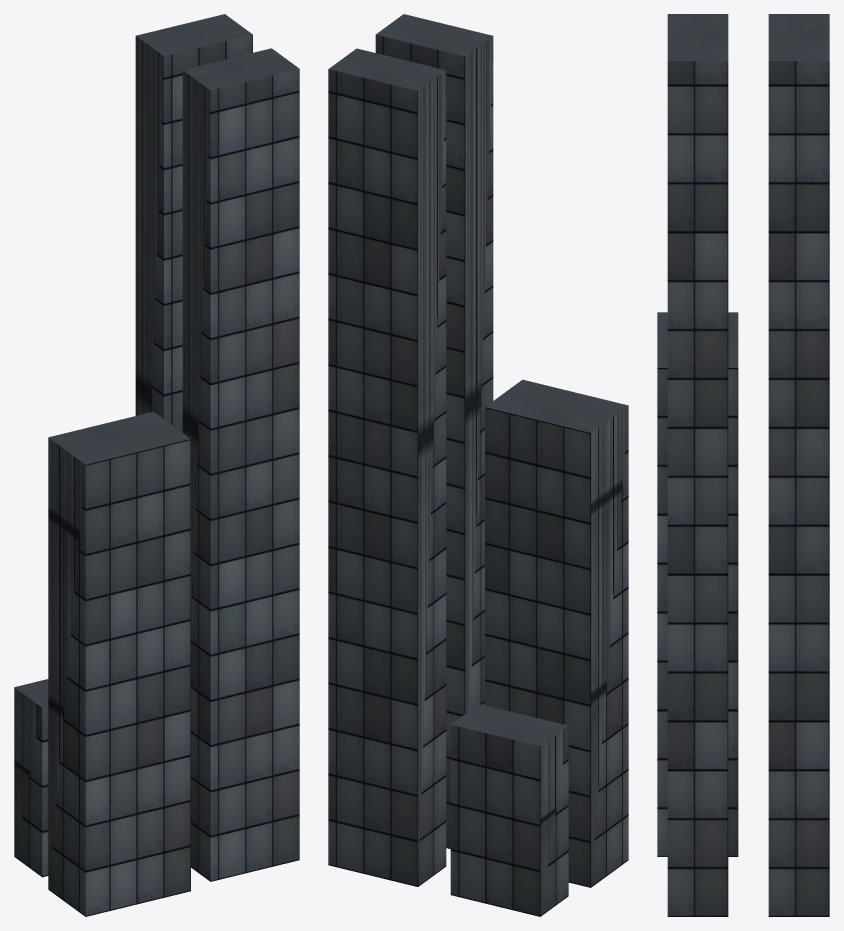
Rendered from block_21.obj.
3 renders of one model, left to right at view 1: azimuth 30°, elevation 25°; view 2: azimuth 150°, elevation 25°; view 3: azimuth 270°, elevation 25°, orthographic. The views are drawn at different scales.
Parts seen in each view (by area): view 1: b3, b1, b2, b0; view 2: b2, b1, b3, b0; view 3: b2, b3, b1.
Part boxes in pixels (<box>): b3: <box>182,48,299,881</box>; b1: <box>48,411,190,916</box>; b2: <box>135,14,252,432</box>; b0: <box>14,679,48,877</box>; b2: <box>328,48,446,886</box>; b1: <box>485,379,628,887</box>; b3: <box>375,14,493,848</box>; b0: <box>450,704,568,916</box>; b2: <box>768,14,829,916</box>; b3: <box>667,14,728,916</box>; b1: <box>657,312,738,856</box>.
Bounding box in the file's own units: 4.05 × 14 × 2.55.
